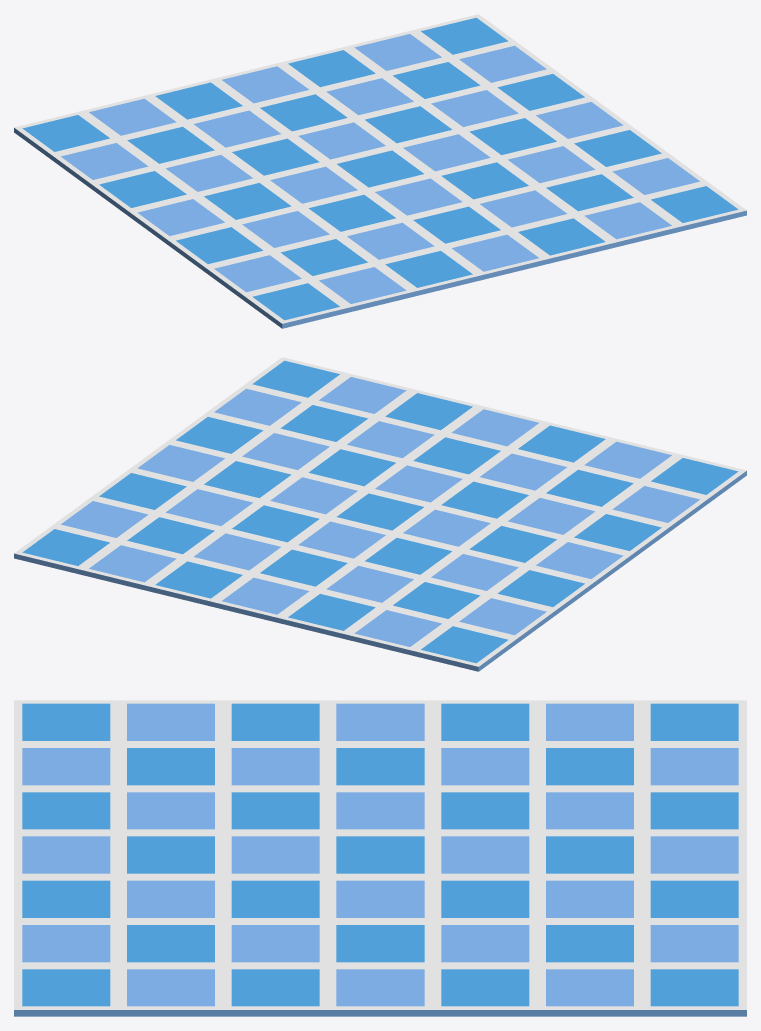
The model's file is Ground_26.fbx.
The picture shows the model from 3 angles, top to bottom: view 1: azimuth 30°, elevation 25°; view 2: azimuth 150°, elevation 25°; view 3: azimuth 270°, elevation 25°; orthographic projection. The views are drawn at different scales.
Parts seen in each view (by area): view 1: Ground_26; view 2: Ground_26; view 3: Ground_26.
Part boxes in pixels (<box>): Ground_26: <box>14,14,746,328</box>; Ground_26: <box>14,357,746,671</box>; Ground_26: <box>14,700,746,1016</box>.
Bounding box in the file's own units: 3.61 × 0.0368 × 3.61.
